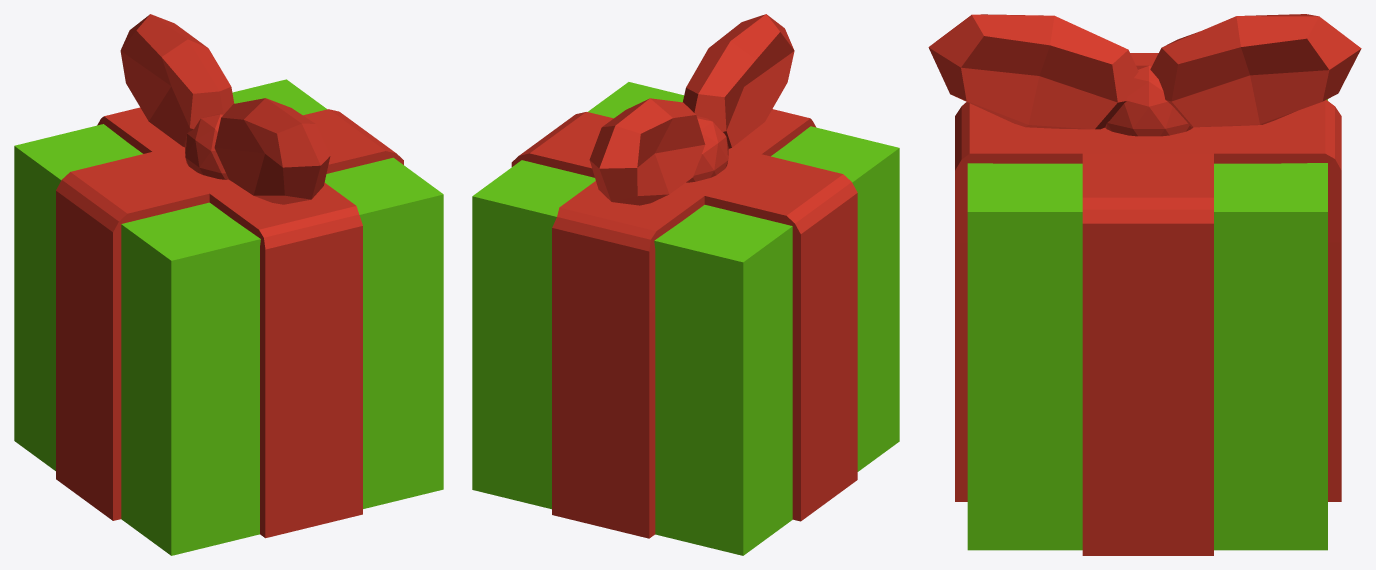
The model's file is present.gltf.
3 renders of one model, left to right at view 1: azimuth 30°, elevation 25°; view 2: azimuth 150°, elevation 25°; view 3: azimuth 270°, elevation 25°, orthographic. The views are drawn at different scales.
Visible parts, largest first — view 1: Cube.001; view 2: Cube.001; view 3: Cube.001.
Part boxes in pixels (bbox=[...]): Cube.001: bbox=[14, 14, 443, 555]; Cube.001: bbox=[472, 14, 899, 555]; Cube.001: bbox=[928, 14, 1361, 555].
Size of the model in its own units: 1.83 by 2.39 by 2.06.
